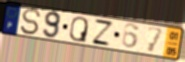6: (121, 23, 141, 53)
7: (146, 26, 164, 55)
9: (41, 10, 62, 40)
Q: (69, 16, 90, 44)
S: (19, 7, 42, 37)
Z: (90, 18, 116, 48)
